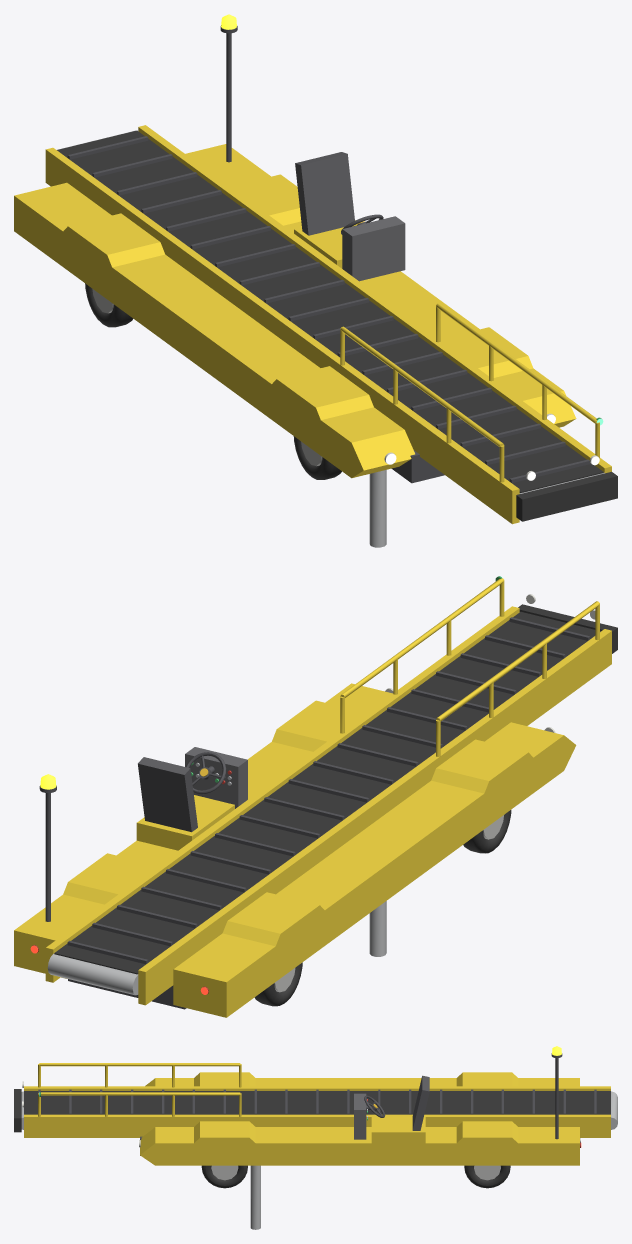
The model's file is BeltLoader.glb.
The picture shows the model from 3 angles, top to bottom: view 1: azimuth 30°, elevation 25°; view 2: azimuth 150°, elevation 25°; view 3: azimuth 270°, elevation 25°; orthographic projection. The views are drawn at different scales.
Visible parts, largest first — view 1: Belt, Body, Wheel_RR, Wheel_FR; view 2: Belt, Body, Wheel_FR, Wheel_RR, SteeringWheel; view 3: Belt, Body, Wheel_FL, Wheel_RL.
Boxes of the visible parts, x1,y1,x2,y2 form: Belt: (45, 125, 617, 547); Body: (14, 25, 576, 483); Wheel_RR: (85, 283, 133, 327); Wheel_FR: (293, 436, 341, 479); Belt: (45, 576, 617, 1005); Body: (14, 683, 576, 1017); Wheel_FR: (463, 810, 511, 853); Wheel_RR: (254, 962, 302, 1006); SteeringWheel: (186, 752, 226, 794); Belt: (14, 1063, 617, 1229); Body: (139, 1053, 580, 1165); Wheel_FL: (201, 1165, 247, 1188); Wheel_RL: (464, 1165, 510, 1188).
Size of what is drawn, in the model's own units: 2 by 2.99 by 7.82.
